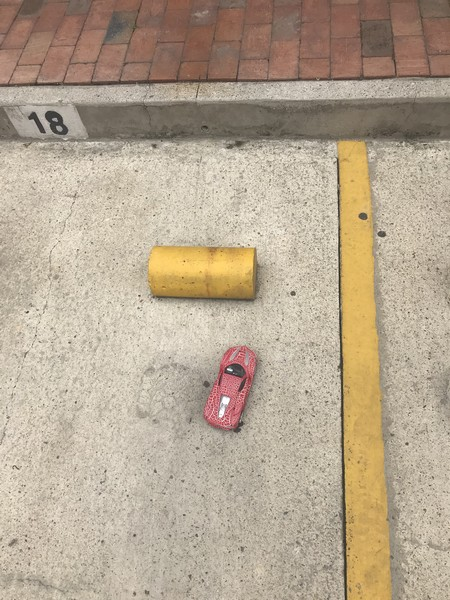RC: (203, 344, 259, 432)
